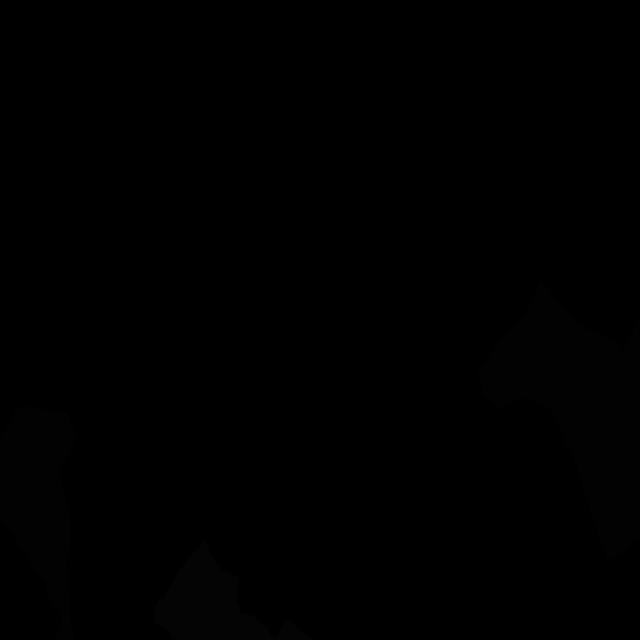cardboard: (476, 281, 622, 449), (0, 406, 77, 640), (570, 316, 640, 562)
soft_plastic: (154, 538, 312, 640)
